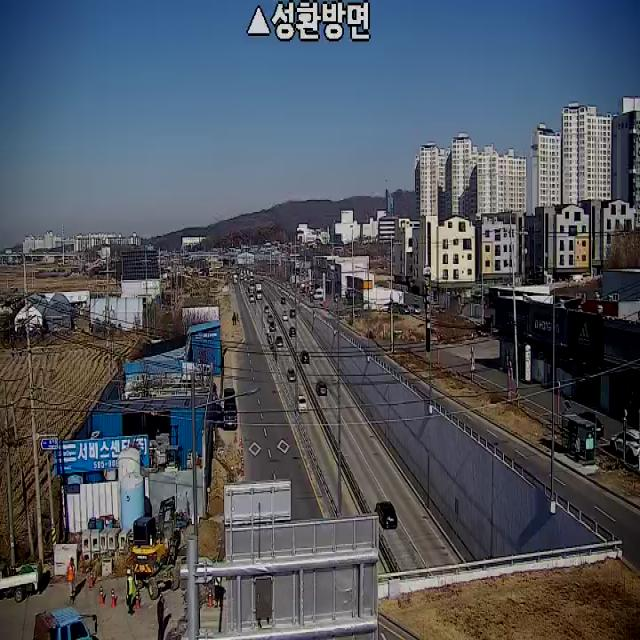Car: (611, 429, 640, 465), (573, 411, 604, 441), (376, 502, 397, 529), (298, 395, 308, 413), (316, 382, 327, 396), (300, 350, 310, 364), (287, 368, 296, 382), (276, 336, 284, 347), (289, 326, 296, 337), (268, 313, 274, 323), (270, 322, 276, 331), (290, 309, 296, 318), (282, 313, 288, 321), (265, 305, 269, 313), (281, 297, 285, 304)
Truck: (128, 491, 186, 594), (34, 607, 99, 640), (0, 558, 43, 602), (223, 388, 237, 428)
